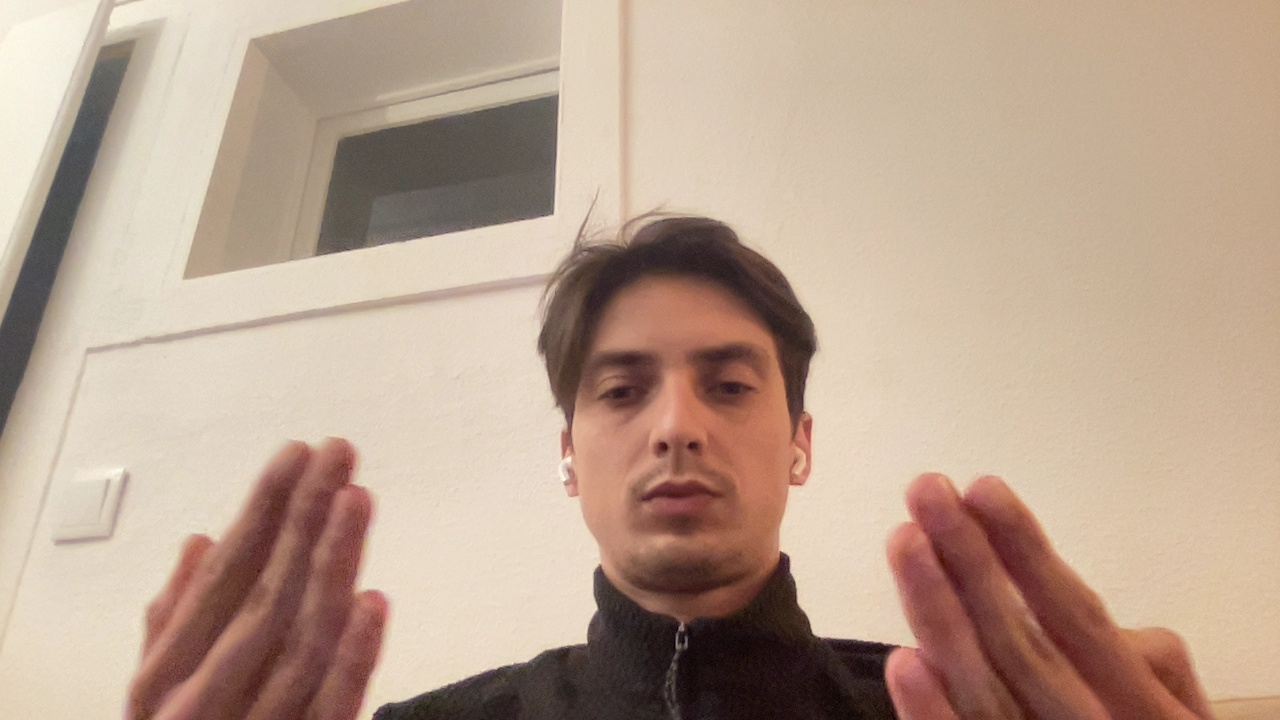Thank you: (805, 417, 1230, 720), (77, 387, 408, 720)
